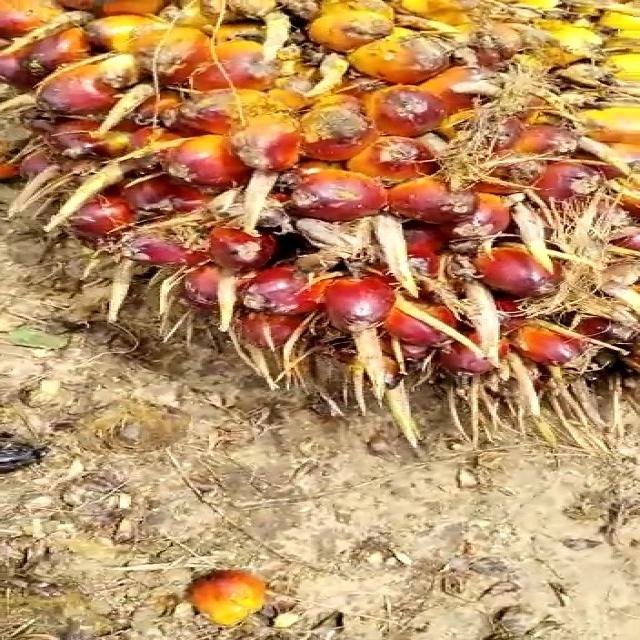palm oil: (0, 0, 640, 430)
